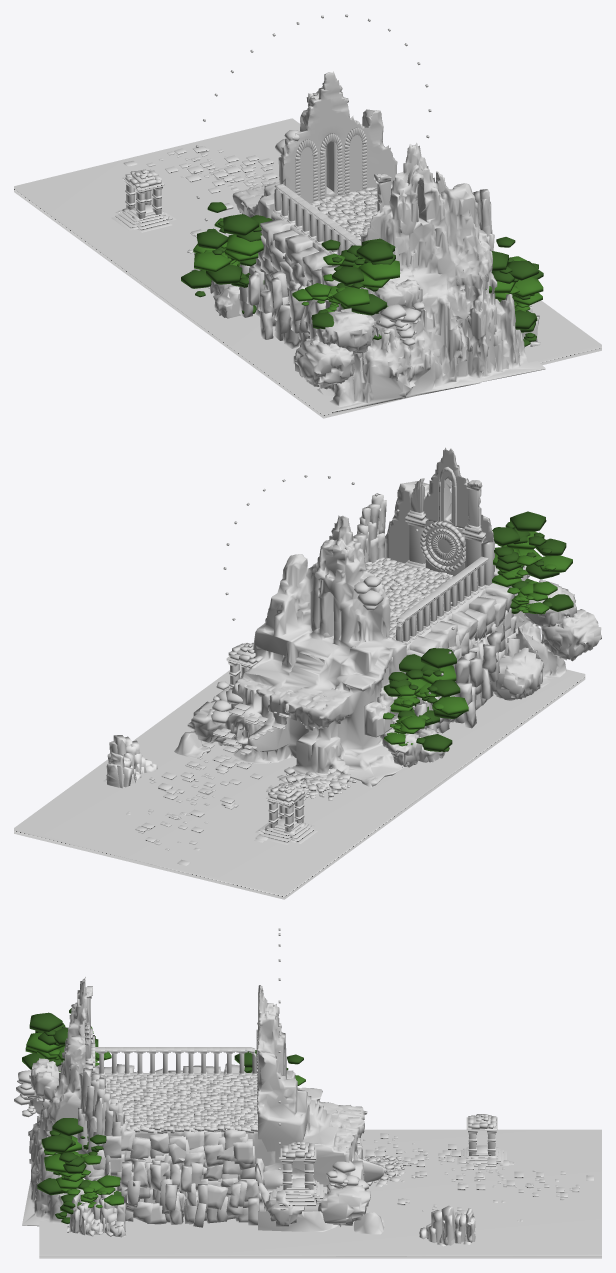
File: Aztec_merged.fbx
3 views of the same model, one above another, from view 1: azimuth 30°, elevation 25°; view 2: azimuth 150°, elevation 25°; view 3: azimuth 270°, elevation 25° (orthographic). The views are drawn at different scales.
Visible parts, largest first — view 1: Temple (×2), Water, 0.2_tree, 0.1_tree, 0.6_tree, Floating steps, Floor, 0.5_tree; view 2: Temple (×2), Water, 0.2_tree, 0.1_tree, Floating steps, Floor, 0.1_rock, 0.4_tree, 0.3_tree, Stones in water; view 3: Temple (×2), Water, Floor, 0.6_tree, Floating steps, 0.2_tree, 0.1_rock, 0.4_tree, 0.5_tree, Stones in water, 0.1_tree.
Boxes of the visible parts, bbox=[...] form: Temple (×2): bbox=[111, 14, 545, 412]; Water: bbox=[14, 118, 601, 418]; 0.2_tree: bbox=[292, 238, 400, 339]; 0.1_tree: bbox=[181, 202, 272, 313]; 0.6_tree: bbox=[486, 237, 543, 346]; Floating steps: bbox=[146, 146, 279, 193]; Floor: bbox=[288, 182, 392, 240]; 0.5_tree: bbox=[376, 302, 424, 345]; Temple (×2): bbox=[174, 447, 601, 844]; Water: bbox=[14, 664, 585, 899]; 0.2_tree: bbox=[492, 511, 573, 614]; 0.1_tree: bbox=[383, 648, 468, 751]; Floating steps: bbox=[135, 696, 288, 850]; Floor: bbox=[365, 557, 477, 639]; 0.1_rock: bbox=[103, 735, 157, 788]; 0.4_tree: bbox=[211, 681, 242, 725]; 0.3_tree: bbox=[354, 576, 383, 610]; Stones in water: bbox=[126, 765, 309, 865]; Temple (×2): bbox=[22, 928, 506, 1237]; Water: bbox=[39, 1129, 601, 1258]; Floor: bbox=[100, 1074, 257, 1133]; 0.6_tree: bbox=[37, 1118, 123, 1223]; Floating steps: bbox=[357, 1133, 579, 1200]; 0.2_tree: bbox=[22, 1008, 111, 1071]; 0.1_rock: bbox=[419, 1205, 475, 1246]; 0.4_tree: bbox=[326, 1160, 368, 1189]; 0.5_tree: bbox=[14, 1070, 43, 1117]; Stones in water: bbox=[397, 1159, 593, 1221]; 0.1_tree: bbox=[234, 1050, 305, 1085].
Size of the model in its own units: 220 by 197 by 418.
